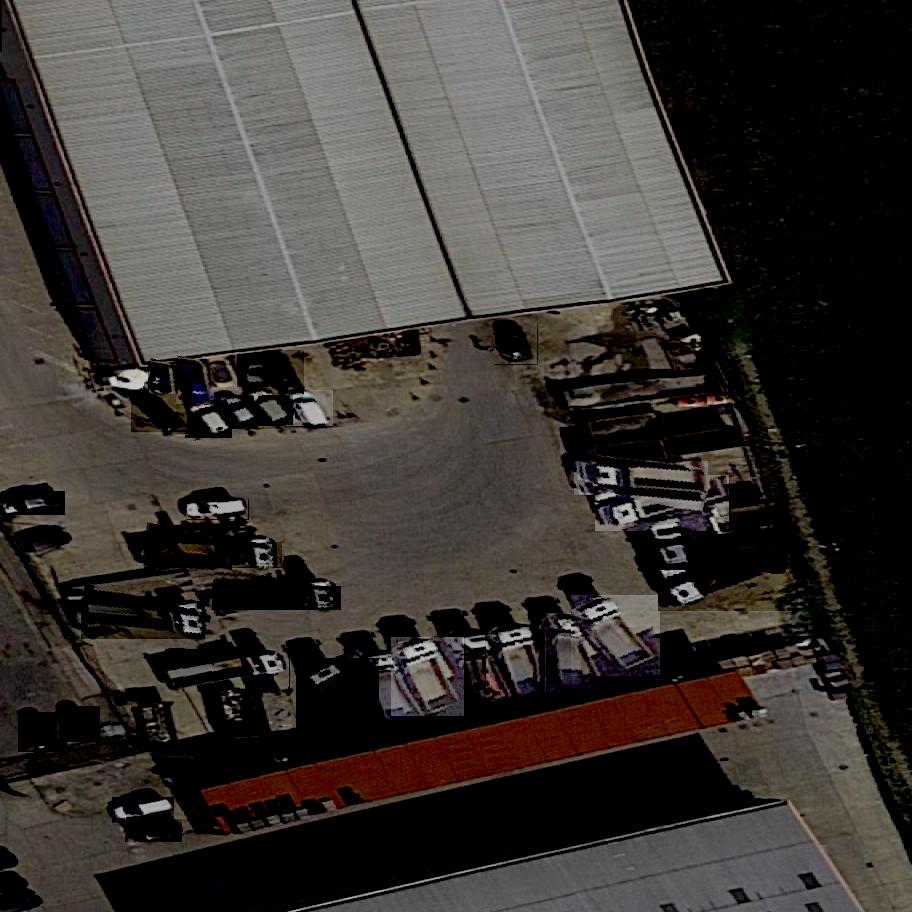large-vehicle: (658, 538, 799, 614), (571, 585, 660, 683), (595, 475, 730, 533), (647, 499, 789, 554), (296, 652, 380, 739), (392, 630, 466, 723), (487, 616, 557, 708), (353, 645, 421, 736), (643, 529, 788, 571), (448, 625, 513, 716), (164, 650, 290, 693), (79, 602, 207, 639), (572, 462, 710, 496), (547, 610, 597, 696), (359, 817, 421, 883), (143, 542, 283, 570), (212, 587, 341, 611)
small-vehicle: (589, 768, 655, 823), (481, 797, 538, 851), (130, 386, 188, 439), (282, 381, 333, 440), (221, 861, 280, 911), (454, 801, 502, 862), (419, 814, 471, 868), (18, 705, 67, 760), (275, 840, 322, 895), (246, 383, 295, 434), (186, 394, 233, 445), (495, 318, 538, 371), (264, 347, 306, 399), (198, 866, 243, 912), (60, 701, 101, 749), (176, 355, 210, 409), (203, 347, 241, 395), (217, 390, 258, 434), (113, 797, 174, 825), (1, 491, 66, 517), (125, 819, 182, 843), (187, 499, 248, 520), (238, 350, 269, 391), (149, 359, 176, 397)
